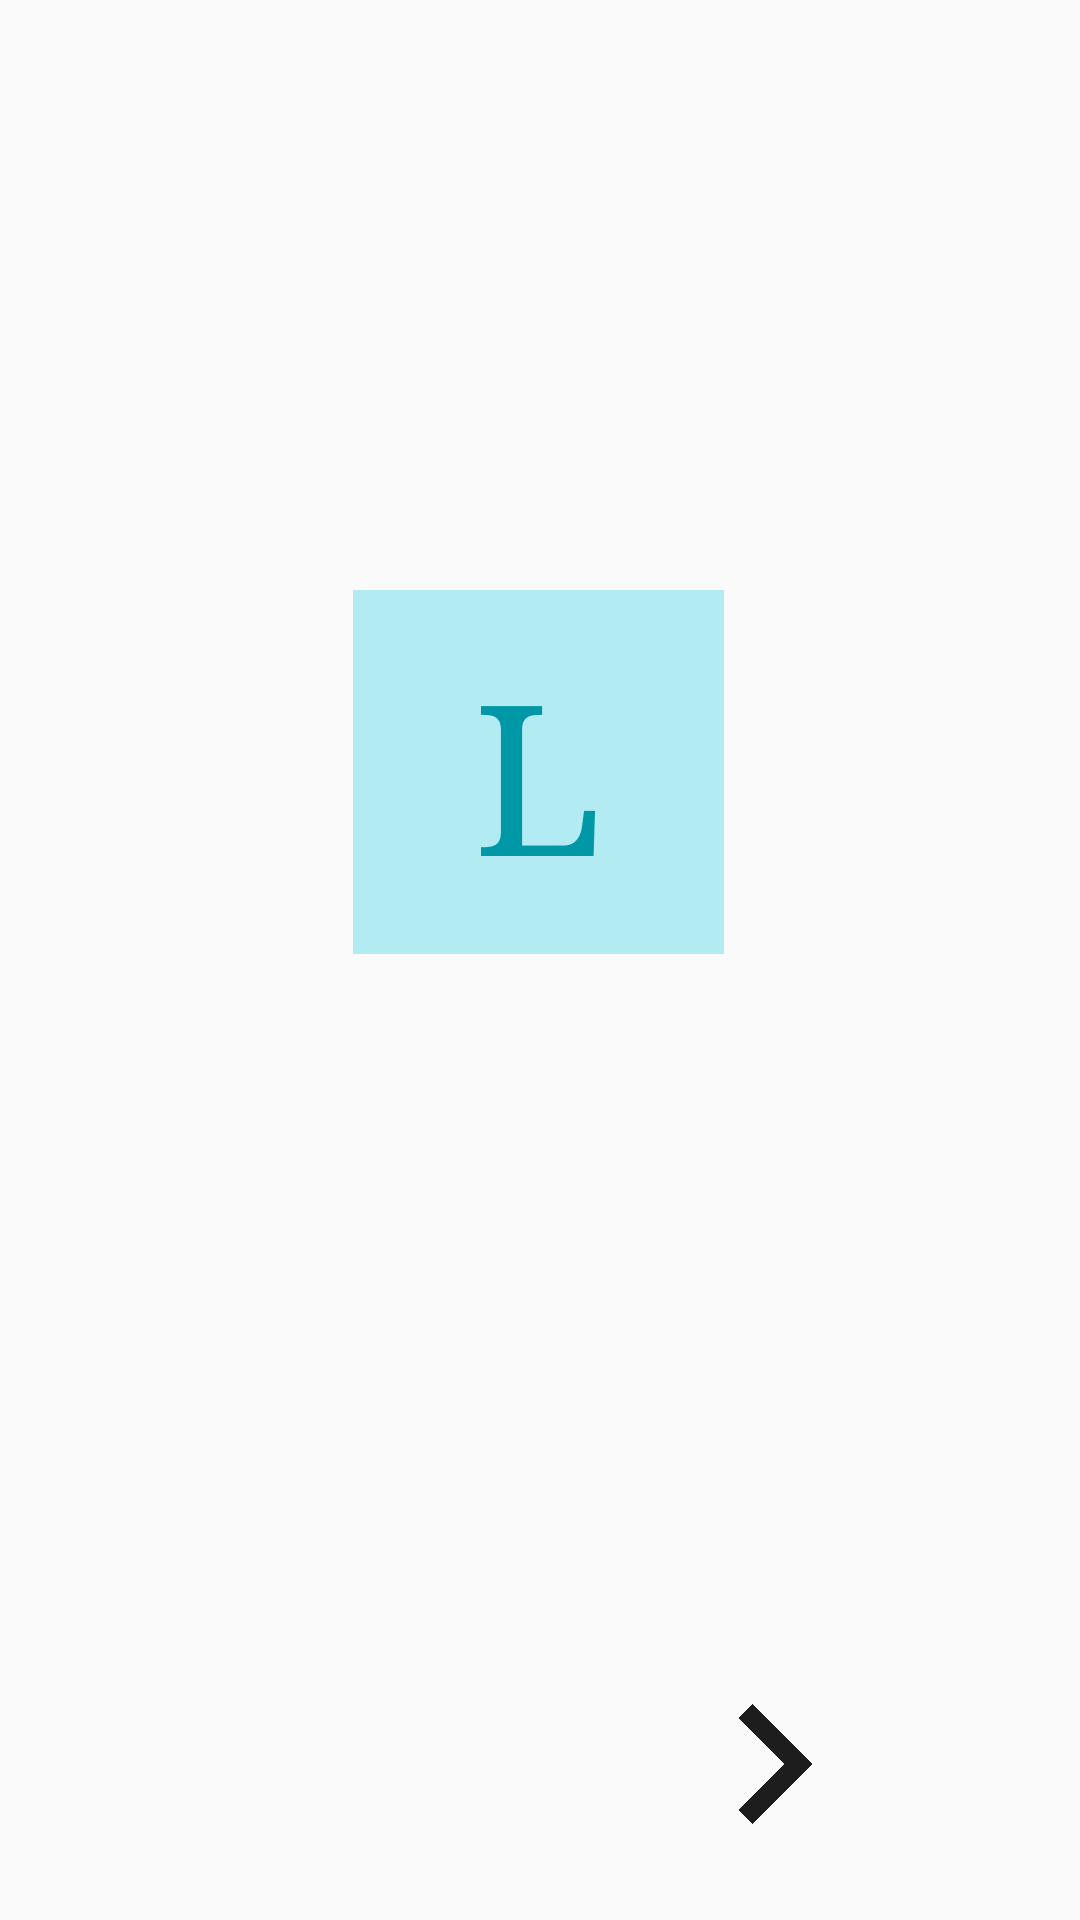

Icons on this 1080x1920 Android screen, each with its box as (x1, y1, x2, y2):
Botón para avanzar a la pantalla siguiente: (739, 1704, 812, 1824)
